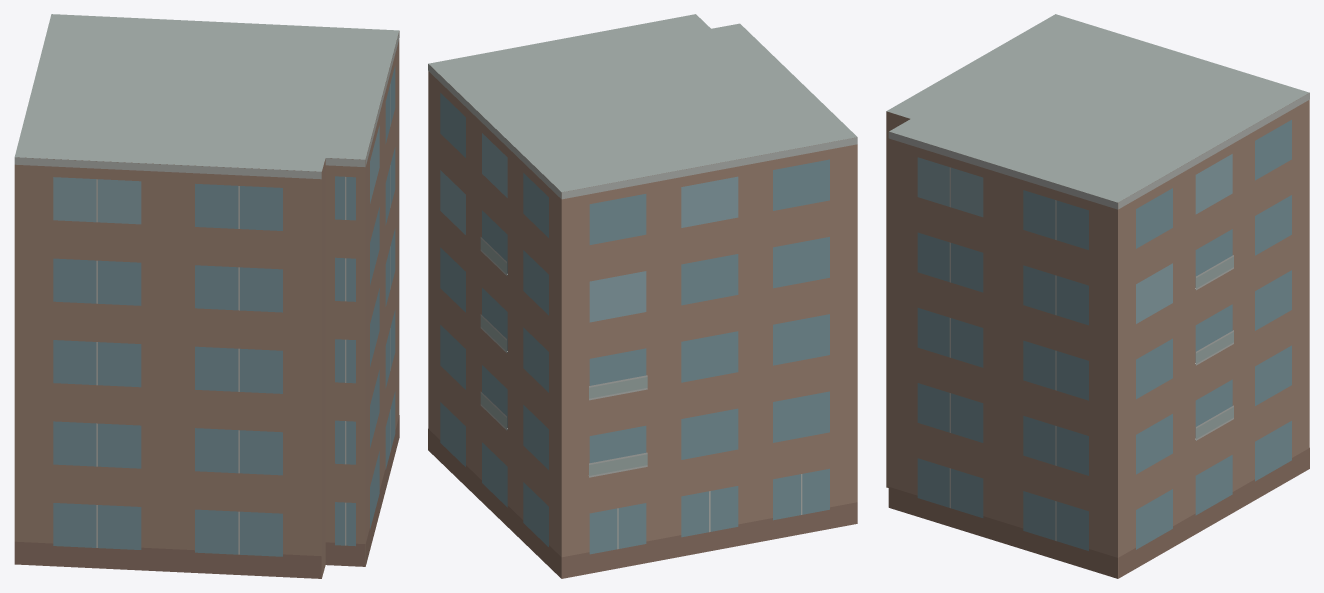
Rendered from survey-upis-33018048.glb.
The picture shows the model from 3 angles, left to right: view 1: azimuth 30°, elevation 25°; view 2: azimuth 150°, elevation 25°; view 3: azimuth 270°, elevation 25°; orthographic projection. The views are drawn at different scales.
Visible parts, largest first — view 1: survey-upis-33018048.tmp; view 2: survey-upis-33018048.tmp; view 3: survey-upis-33018048.tmp.
Part boxes in pixels (bbox=[...]): survey-upis-33018048.tmp: bbox=[14, 14, 399, 578]; survey-upis-33018048.tmp: bbox=[428, 14, 857, 578]; survey-upis-33018048.tmp: bbox=[886, 14, 1309, 578].
Size of the model in its own units: 14.21 by 13.2 by 13.48.
